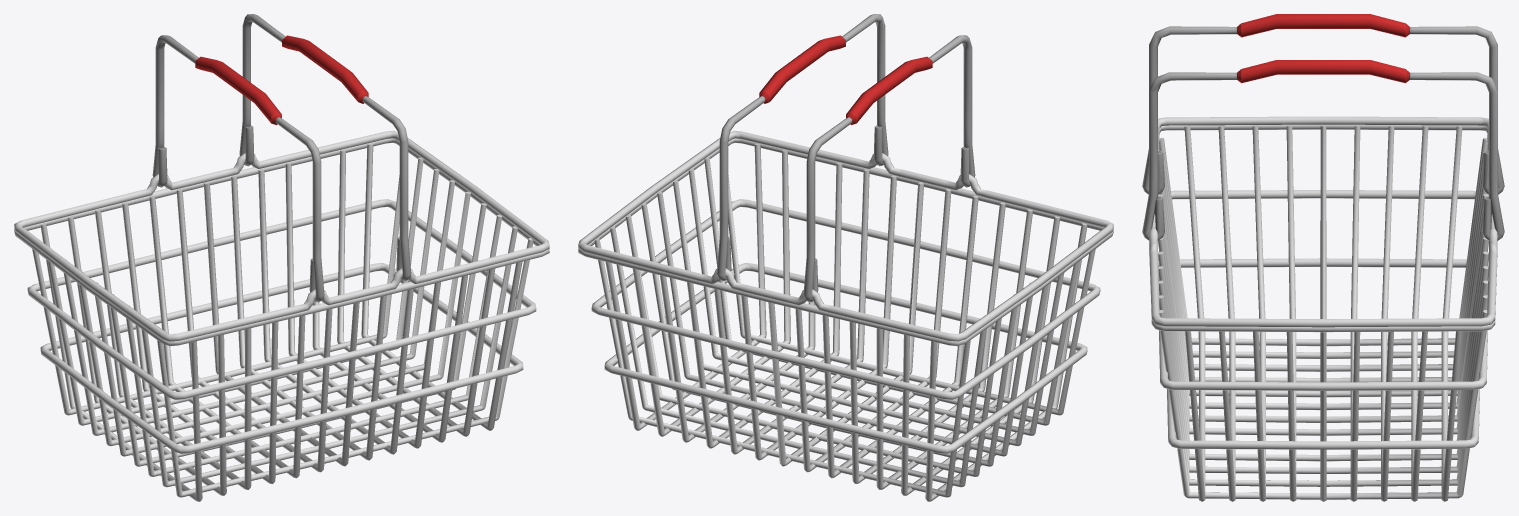
File: Metal_Shopping_Basket.fbx
The picture shows the model from 3 angles, left to right: view 1: azimuth 30°, elevation 25°; view 2: azimuth 150°, elevation 25°; view 3: azimuth 270°, elevation 25°; orthographic projection. The views are drawn at different scales.
Parts seen in each view (by area): view 1: Metal_Shopping_Basket, Handle.002, Handle.001; view 2: Metal_Shopping_Basket, Handle.002, Handle.001; view 3: Metal_Shopping_Basket, Handle.001, Handle.002.
Part boxes in pixels (box(x1,y1,x2,y2)): Metal_Shopping_Basket: box(14, 130, 549, 501); Handle.002: box(152, 35, 324, 302); Handle.001: box(239, 14, 411, 281); Metal_Shopping_Basket: box(578, 130, 1113, 501); Handle.002: box(803, 35, 975, 302); Handle.001: box(716, 14, 888, 281); Metal_Shopping_Basket: box(1149, 116, 1497, 501); Handle.001: box(1142, 60, 1504, 240); Handle.002: box(1142, 14, 1504, 194).
Size of the model in its own units: 50 by 43.68 by 37.17.
